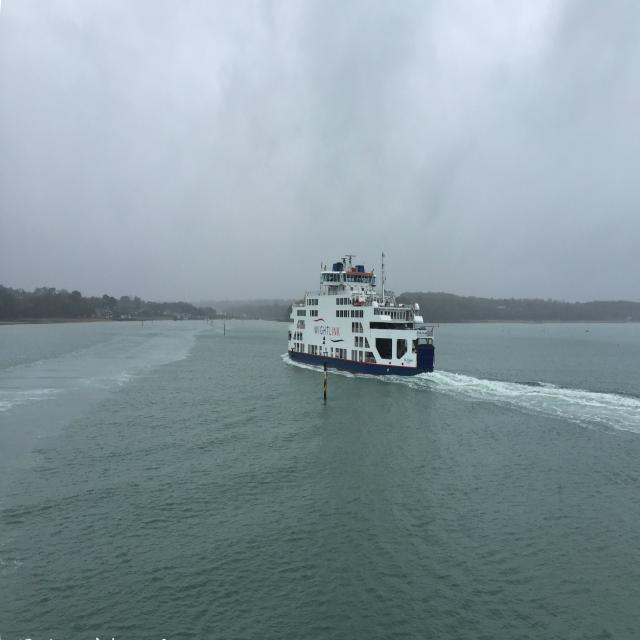houseboat: (282, 250, 445, 394)
